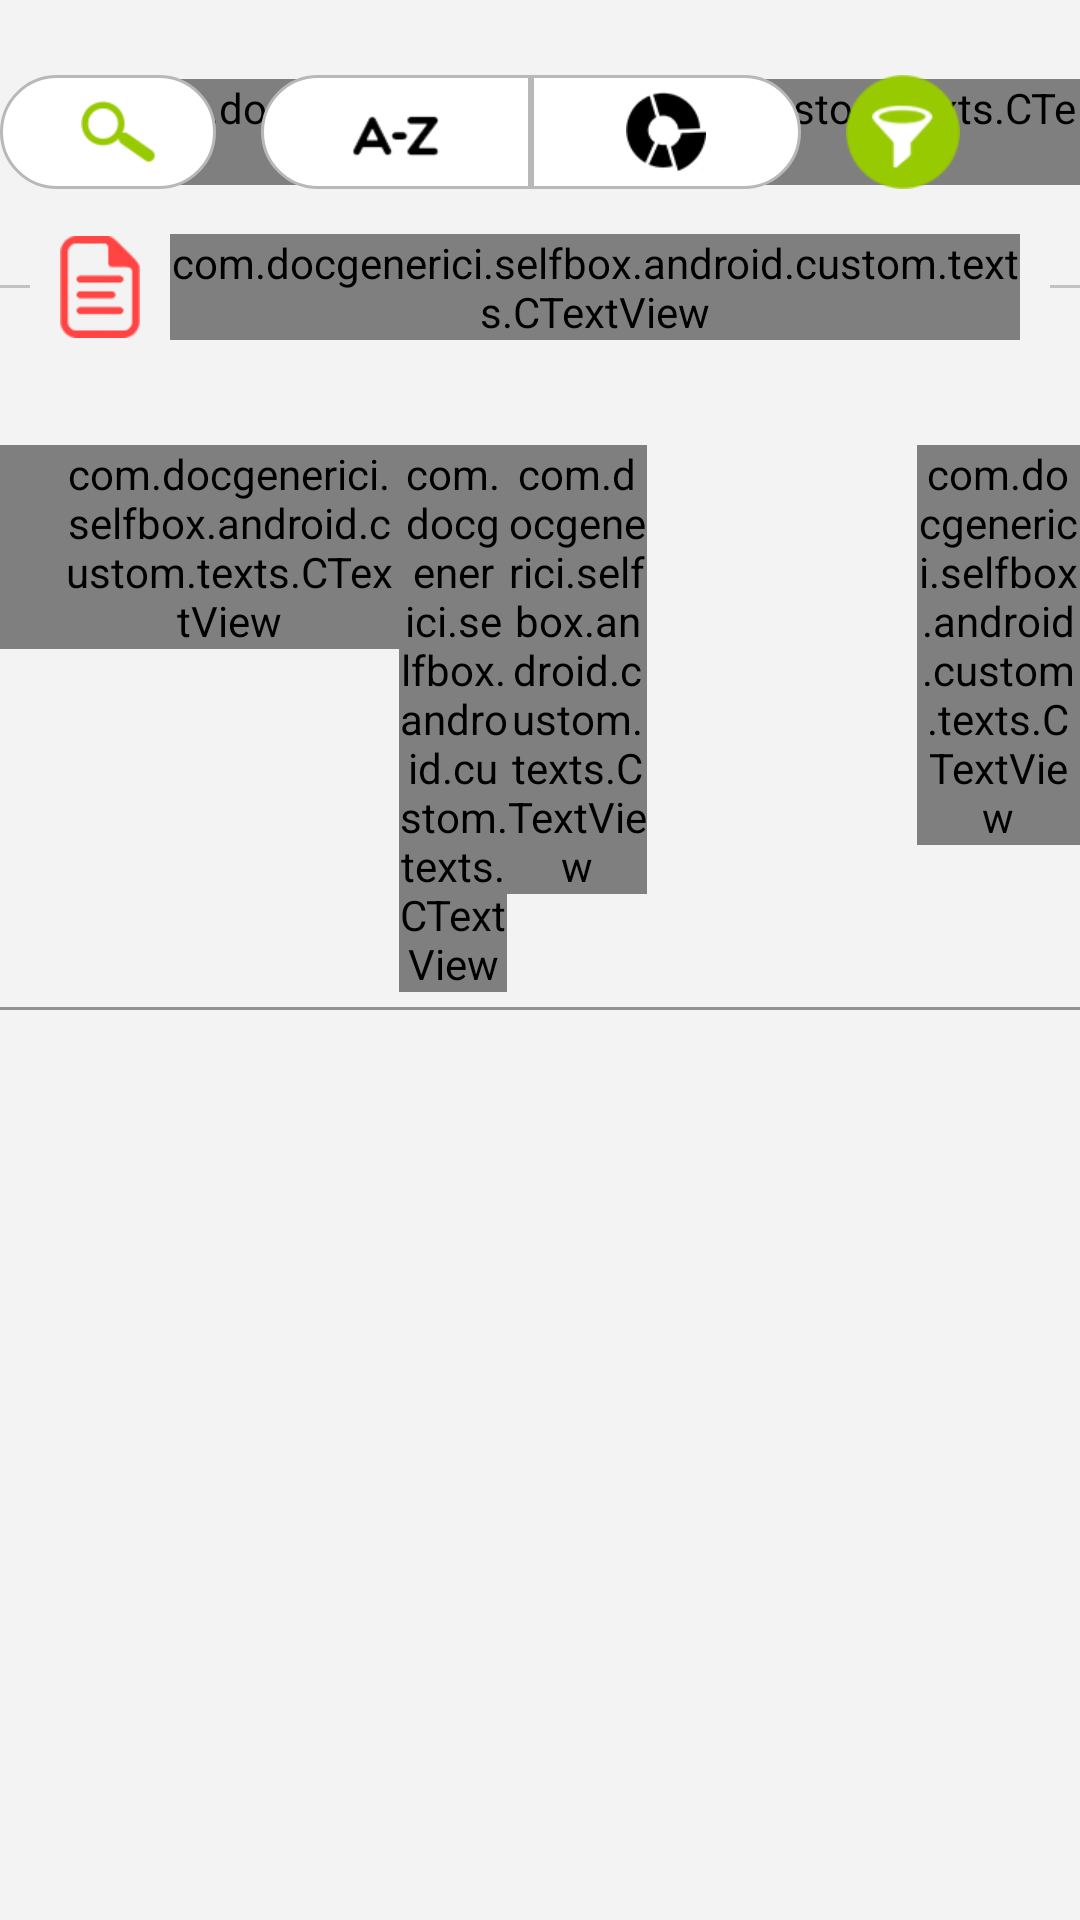

Point at icon controls on the screen. Image size 1080*1920, points as (x,y).
filter: (903,132)
type pdf: (100,287)
